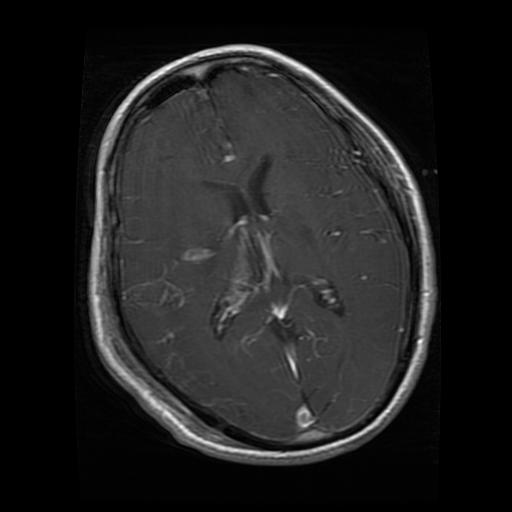Gliomia_tumour: (209, 227, 261, 338)
